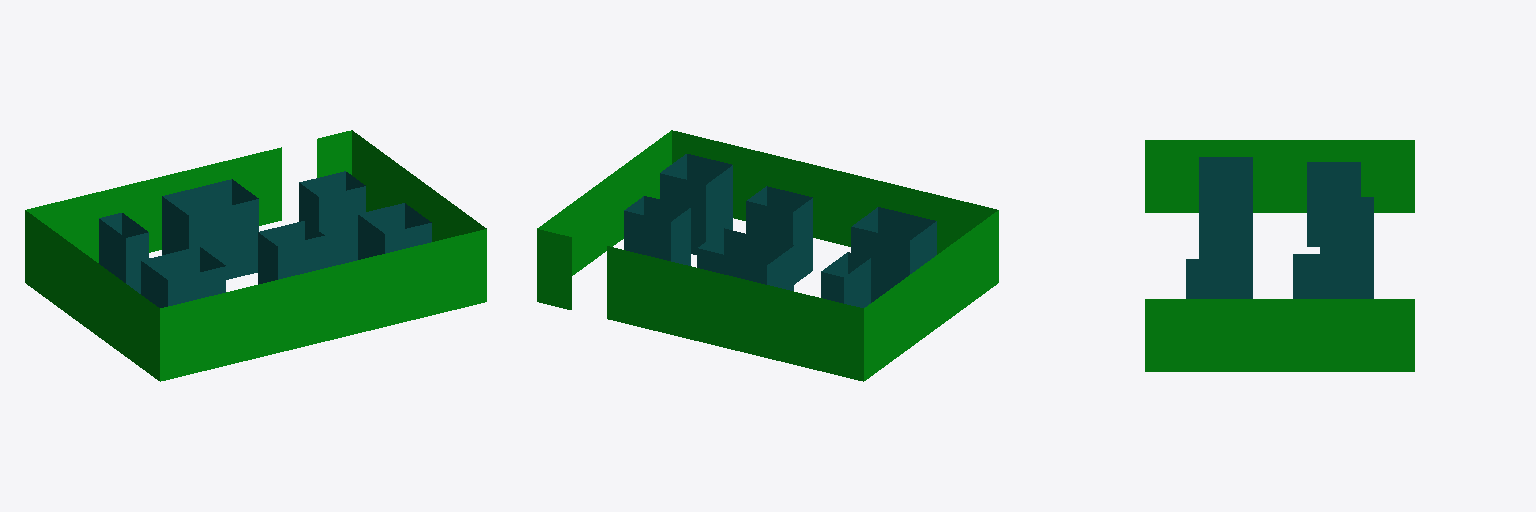
File: map_mini1_col.obj
3 renders of one model, left to right at view 1: azimuth 30°, elevation 25°; view 2: azimuth 150°, elevation 25°; view 3: azimuth 270°, elevation 25°, orthographic.
Parts seen in each view (by area): view 1: 平面.003, 平面, 平面.002, 立方体.001, 平面.008, 立方体.002, 立方体.006, 平面.001, 立方体.005, 立方体.010, 立方体.003, 平面.006 (+5 smaller); view 2: 平面, 平面.003, 平面.002, 立方体.004, 平面.001, 平面.006, 立方体.007, 立方体.008, 立方体.012, 立方体.011, 立方体.006, 平面.007 (+6 smaller); view 3: 平面.001, 平面.002, 立方体.001, 立方体.012, 平面.007, 平面.006, 立方体.003, 立方体.002, 立方体.007, 立方体.005, 立方体.010, 立方体.004 (+2 smaller).
Boxes of the visible parts, x1=… form: 平面.003: x1=160, y1=229, x2=486, y2=381; 平面: x1=26, y1=130, x2=351, y2=262; 平面.002: x1=25, y1=210, x2=159, y2=380; 立方体.001: x1=162, y1=179, x2=258, y2=279; 平面.008: x1=160, y1=229, x2=486, y2=374; 立方体.002: x1=299, y1=171, x2=365, y2=266; 立方体.006: x1=141, y1=246, x2=225, y2=307; 平面.001: x1=352, y1=131, x2=486, y2=241; 立方体.005: x1=258, y1=221, x2=324, y2=283; 立方体.010: x1=358, y1=203, x2=431, y2=259; 立方体.003: x1=99, y1=213, x2=148, y2=293; 平面.006: x1=352, y1=130, x2=484, y2=240; 平面: x1=537, y1=229, x2=863, y2=381; 平面.003: x1=672, y1=130, x2=997, y2=254; 平面.002: x1=864, y1=210, x2=998, y2=380; 立方体.004: x1=660, y1=154, x2=732, y2=254; 平面.001: x1=537, y1=130, x2=671, y2=275; 平面.006: x1=539, y1=132, x2=671, y2=274; 立方体.007: x1=701, y1=228, x2=793, y2=290; 立方体.008: x1=624, y1=196, x2=690, y2=265; 立方体.012: x1=851, y1=214, x2=936, y2=301; 立方体.011: x1=746, y1=196, x2=812, y2=284; 立方体.006: x1=860, y1=207, x2=936, y2=302; 平面.007: x1=864, y1=219, x2=986, y2=379; 平面.001: x1=1145, y1=299, x2=1414, y2=371; 平面.002: x1=1145, y1=140, x2=1414, y2=212; 立方体.001: x1=1320, y1=197, x2=1373, y2=298; 立方体.012: x1=1199, y1=157, x2=1252, y2=258; 平面.007: x1=1145, y1=140, x2=1414, y2=212; 平面.006: x1=1145, y1=299, x2=1414, y2=371; 立方体.003: x1=1307, y1=162, x2=1360, y2=246; 立方体.002: x1=1293, y1=254, x2=1333, y2=298; 立方体.007: x1=1320, y1=197, x2=1373, y2=298; 立方体.005: x1=1213, y1=236, x2=1252, y2=298; 立方体.010: x1=1186, y1=259, x2=1239, y2=298; 立方体.004: x1=1186, y1=259, x2=1239, y2=298.
Bounding box in the file's own units: 280 × 60 × 200.